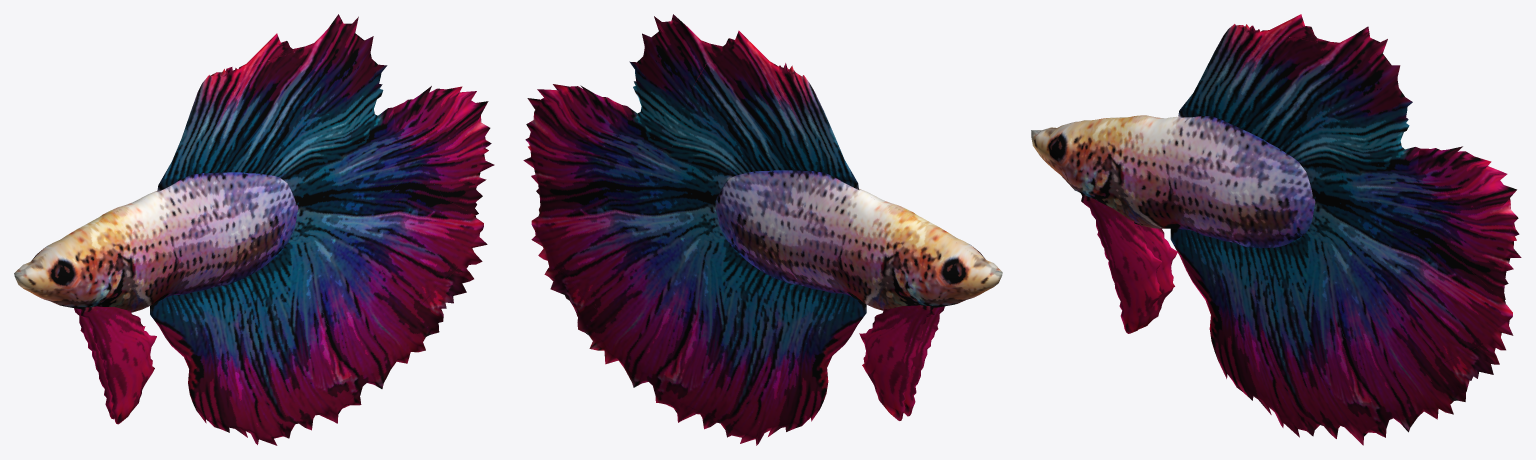
File: betta_fish.glb
3 views of the same model, side by side, from view 1: azimuth 30°, elevation 25°; view 2: azimuth 150°, elevation 25°; view 3: azimuth 330°, elevation 25° (orthographic). The views are drawn at different scales.
Parts seen in each view (by area): view 1: Object_2; view 2: Object_2; view 3: Object_2.
Boxes of the visible parts, x1,y1,x2,y2 form: Object_2: [14, 14, 494, 445]; Object_2: [523, 14, 1002, 445]; Object_2: [1031, 14, 1521, 445].
Size of the model in its own units: 5.17 by 4.28 by 0.6574.
Materials: 1 (1 with a texture image).
